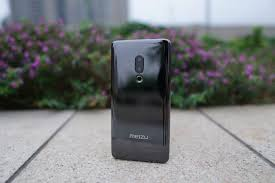meizu: (106, 35, 173, 166)
